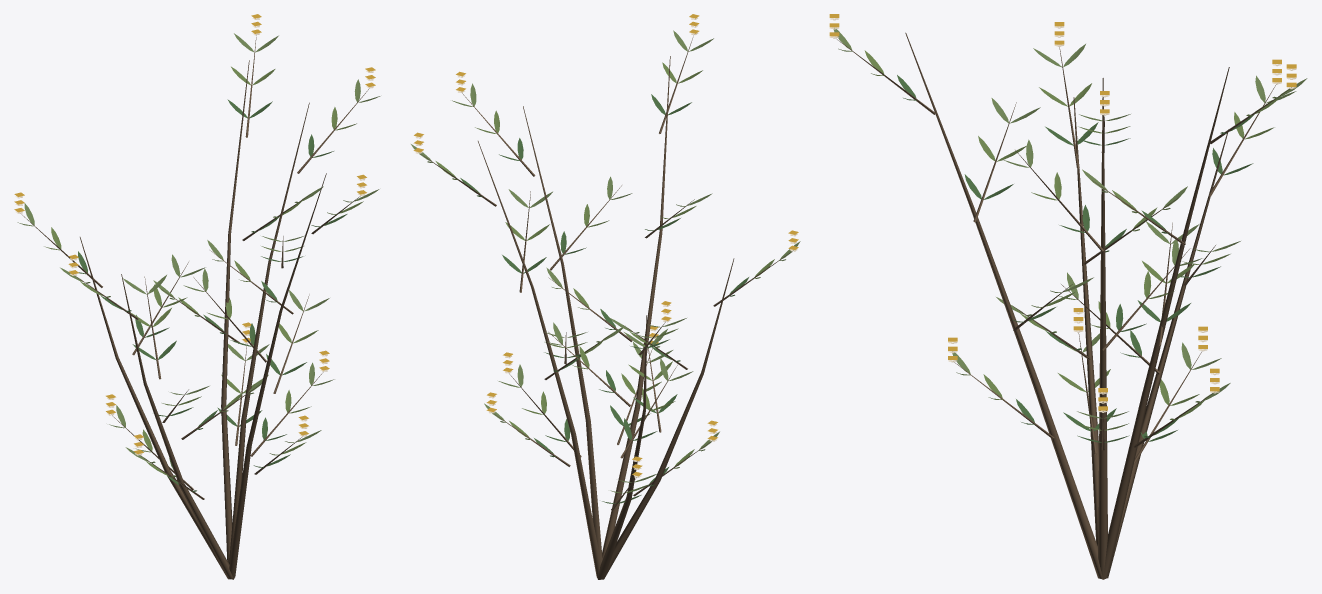
The model's file is BruyereFine_0_Low.fbx.
3 views of the same model, side by side, from view 1: azimuth 30°, elevation 25°; view 2: azimuth 150°, elevation 25°; view 3: azimuth 270°, elevation 25° (orthographic). The views are drawn at different scales.
Visible parts, largest first — view 1: BruyereFine_0_Low; view 2: BruyereFine_0_Low; view 3: BruyereFine_0_Low.
Boxes of the visible parts, <box> form: BruyereFine_0_Low: <box>14,14,380,579</box>; BruyereFine_0_Low: <box>411,14,800,579</box>; BruyereFine_0_Low: <box>829,14,1307,579</box>.
Size of the model in its own units: 110 by 156 by 118.
